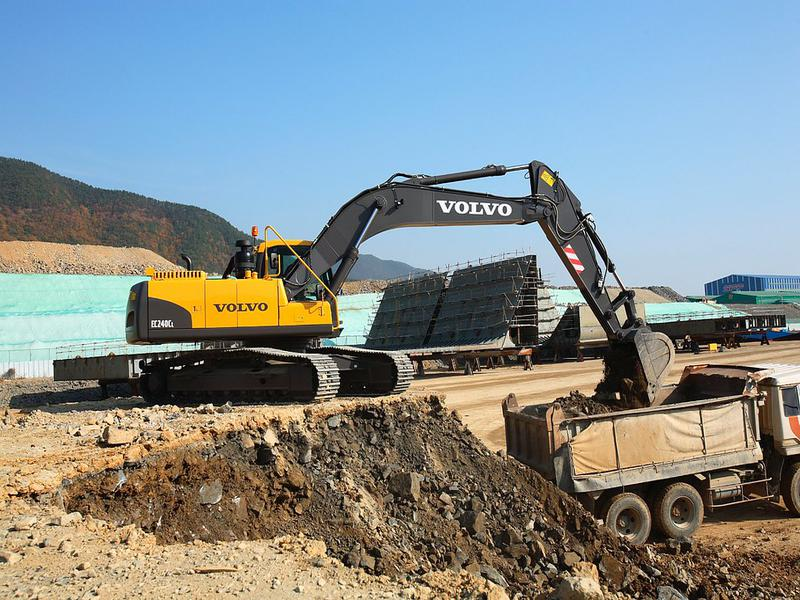shovel: (123, 154, 688, 406)
